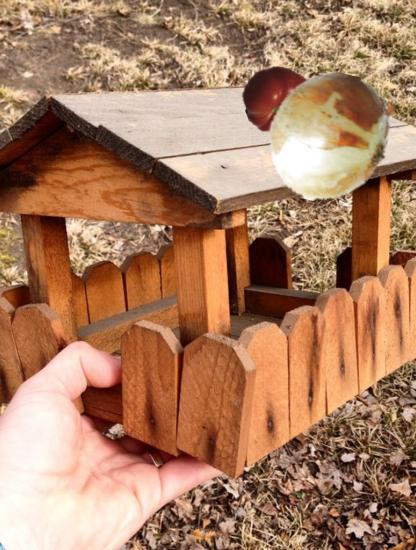Onion: (265, 72, 397, 204)
Tomato: (243, 63, 315, 135)
